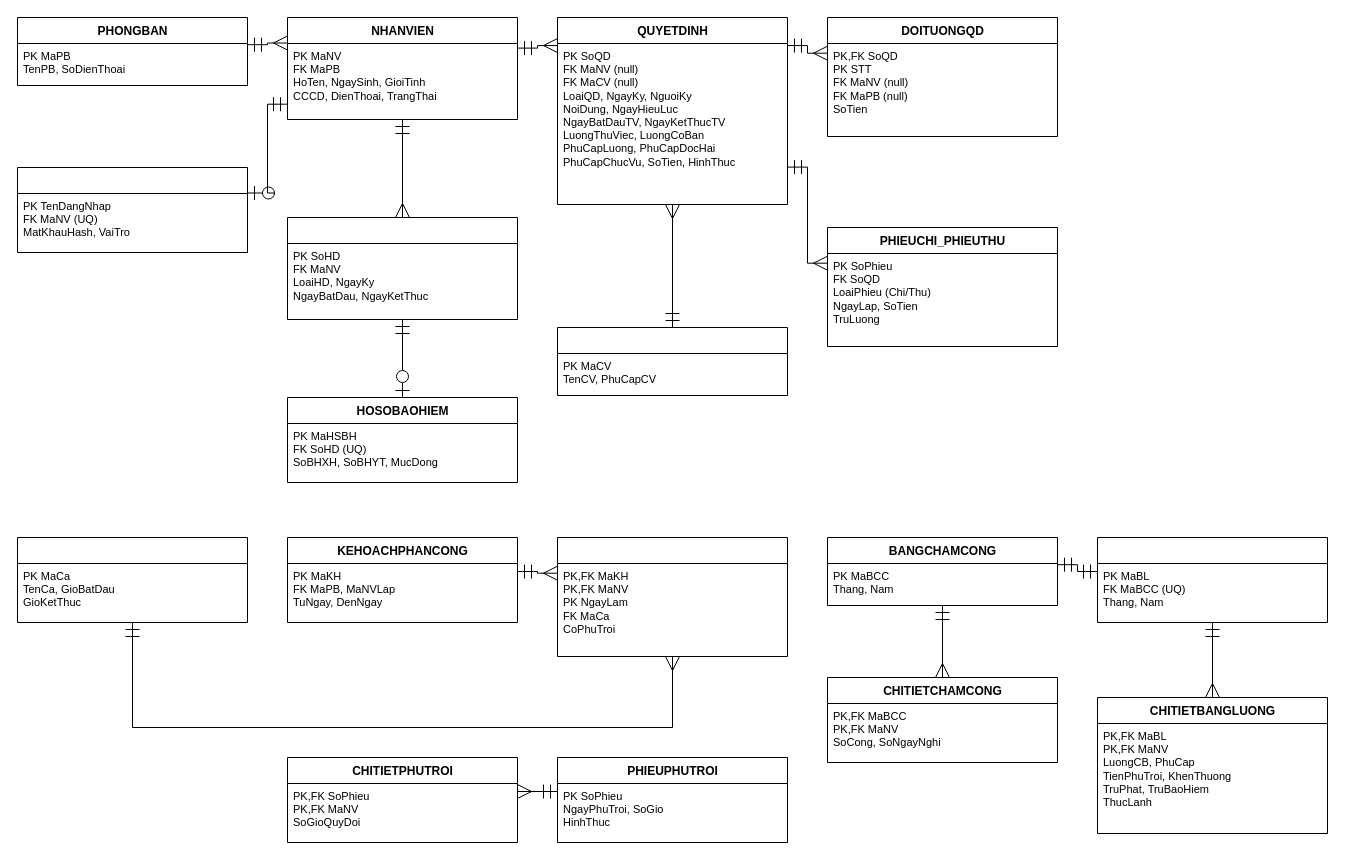
The diagram is 1345 pixels wide and 860 high, and some of its shapes have lost their labels. The box of each missing label's shape, as (x1, y1, x2, y2) in pixels:
BANGLUONG: (1096, 536, 1328, 622)
CALAMVIEC: (16, 536, 248, 622)
CHITIETPHANCONG: (556, 536, 788, 656)
CHUCVU: (556, 326, 788, 396)
HOPDONG: (286, 216, 518, 320)
TAIKHOAN: (16, 166, 248, 252)
